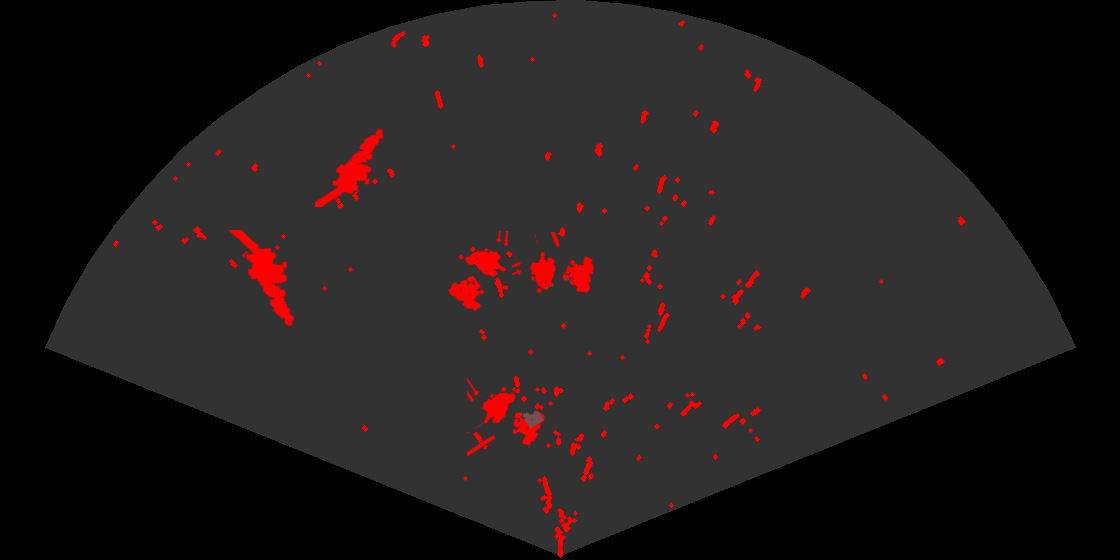cage: (467, 376, 546, 458), (512, 232, 596, 295), (447, 231, 508, 313)
frogman: (227, 230, 296, 328), (315, 127, 385, 207)
